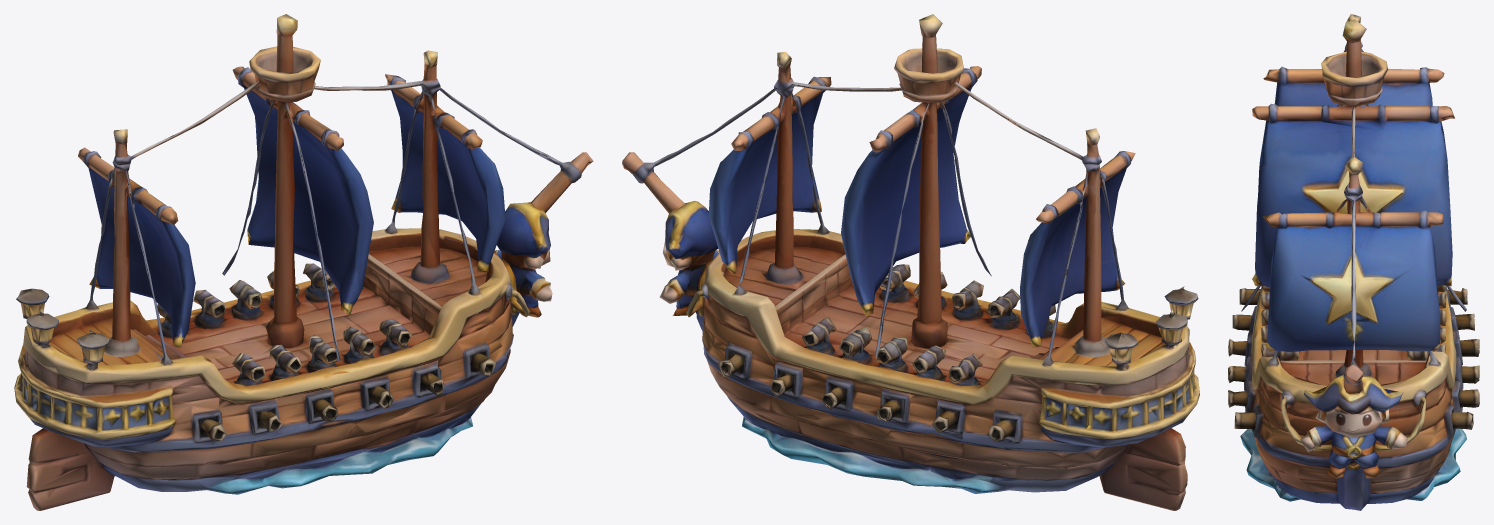
File: warship-high.glb
3 renders of one model, left to right at view 1: azimuth 30°, elevation 25°; view 2: azimuth 150°, elevation 25°; view 3: azimuth 270°, elevation 25°, orthographic. The views are drawn at different scales.
Parts seen in each view (by area): view 1: tripo_node_7113a236-046c-4a7a-bb64-38173cfa9b84; view 2: tripo_node_7113a236-046c-4a7a-bb64-38173cfa9b84; view 3: tripo_node_7113a236-046c-4a7a-bb64-38173cfa9b84.
Boxes of the visible parts, <box> form: tripo_node_7113a236-046c-4a7a-bb64-38173cfa9b84: <box>14,14,593,510</box>; tripo_node_7113a236-046c-4a7a-bb64-38173cfa9b84: <box>622,14,1199,510</box>; tripo_node_7113a236-046c-4a7a-bb64-38173cfa9b84: <box>1228,14,1479,510</box>.
Bounding box in the file's own units: 0.9991 × 0.7332 × 0.4001.
Materials: 1 (1 with a texture image).
